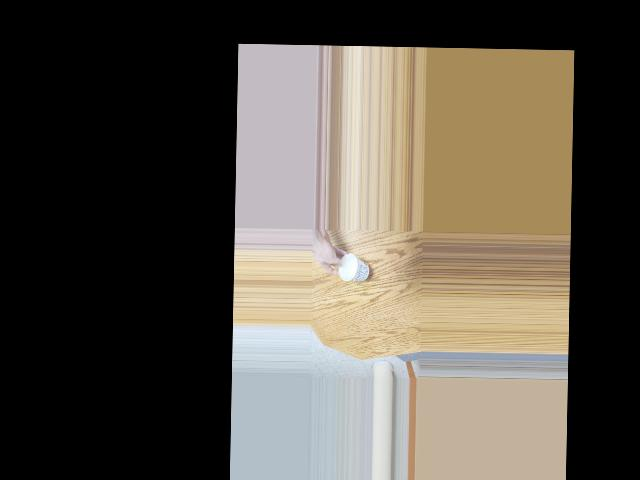cotage: (338, 258, 372, 281)
